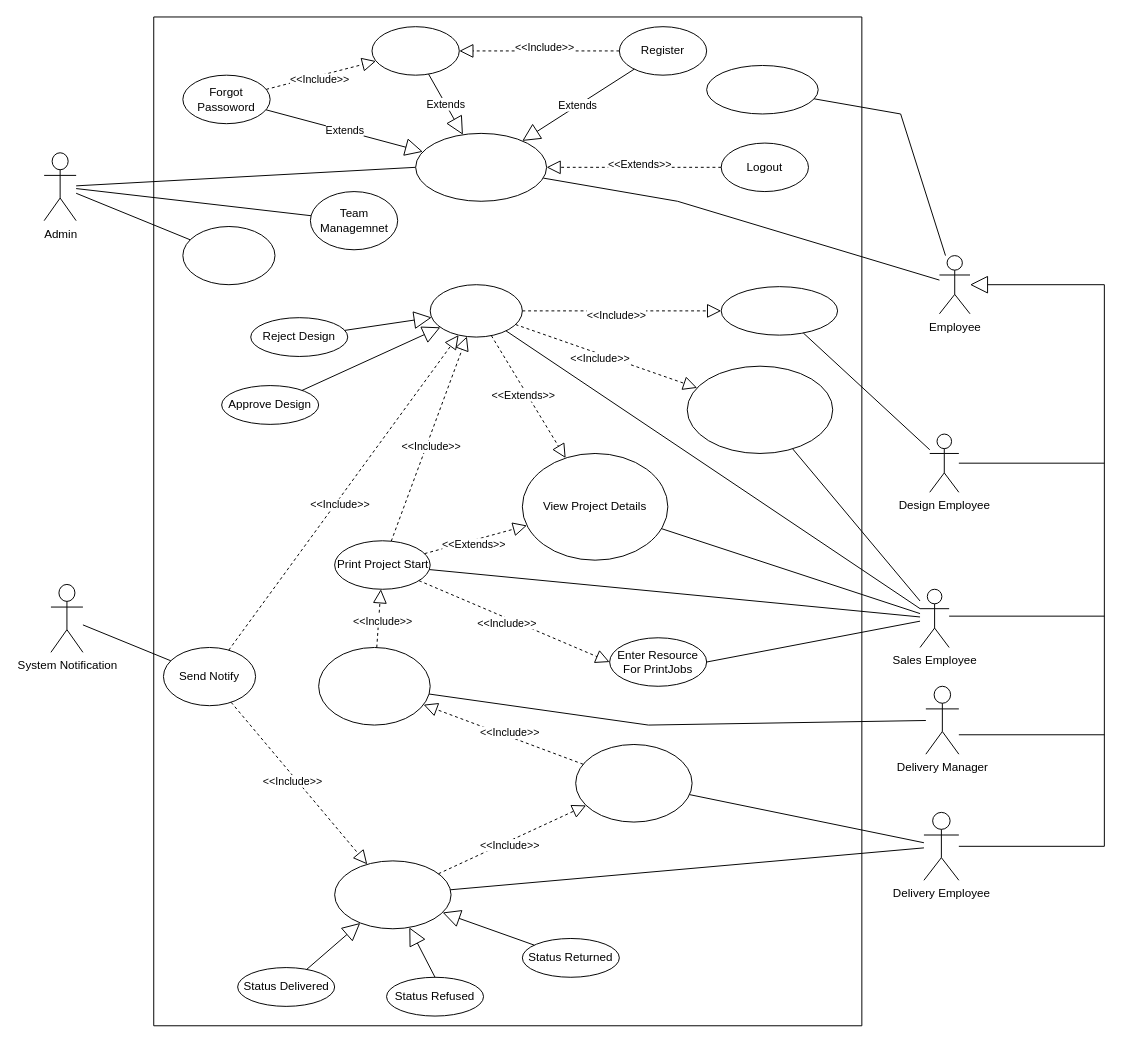
This 1139x1043 diagram has some shape labels left out. The box of each missing label's shape, as (x1, y1, x2, y2) in pixels:
Account Management: (706, 65, 818, 114)
Add Project Design: (720, 286, 838, 335)
Create Project: (686, 365, 833, 453)
Design management Of Project: (429, 284, 522, 337)
Enter Confirm Code: (371, 26, 459, 75)
Login: (415, 132, 547, 201)
Receive Delivery Order: (575, 744, 692, 822)
Select delivery Employee For project: (318, 647, 430, 725)
Update status Delivery Order: (334, 860, 451, 929)
User Managemnet: (182, 226, 275, 285)
